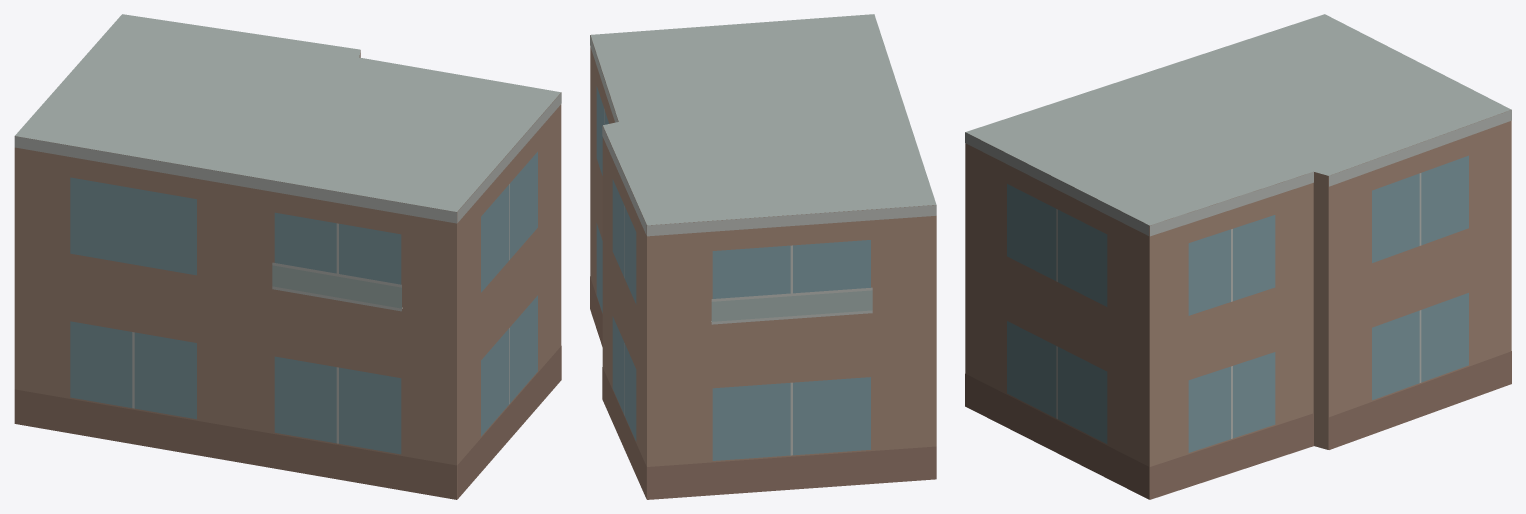
Rendered from survey-upis-32762119.glb.
The picture shows the model from 3 angles, left to right: view 1: azimuth 30°, elevation 25°; view 2: azimuth 150°, elevation 25°; view 3: azimuth 270°, elevation 25°; orthographic projection. The views are drawn at different scales.
Visible parts, largest first — view 1: survey-upis-32762119.tmp; view 2: survey-upis-32762119.tmp; view 3: survey-upis-32762119.tmp.
Boxes of the visible parts, x1,y1,x2,y2 form: survey-upis-32762119.tmp: [14, 14, 561, 499]; survey-upis-32762119.tmp: [590, 14, 936, 499]; survey-upis-32762119.tmp: [965, 14, 1511, 499].
Bounding box in the file's own units: 10.1 × 6.1 × 11.02.
